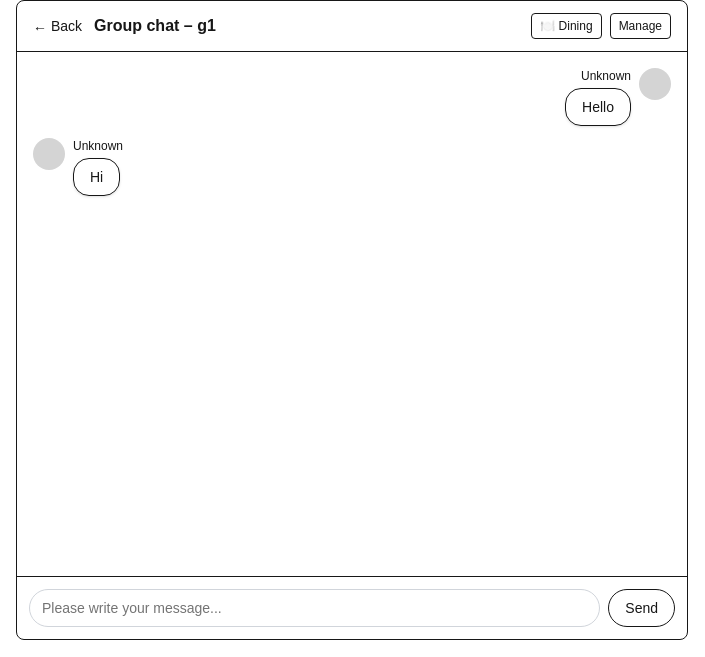
Scenario: manage members toggles, searches, and adds member successfully
Step 1. Click the button "Manage" → (640, 26), box [610, 13, 671, 39]
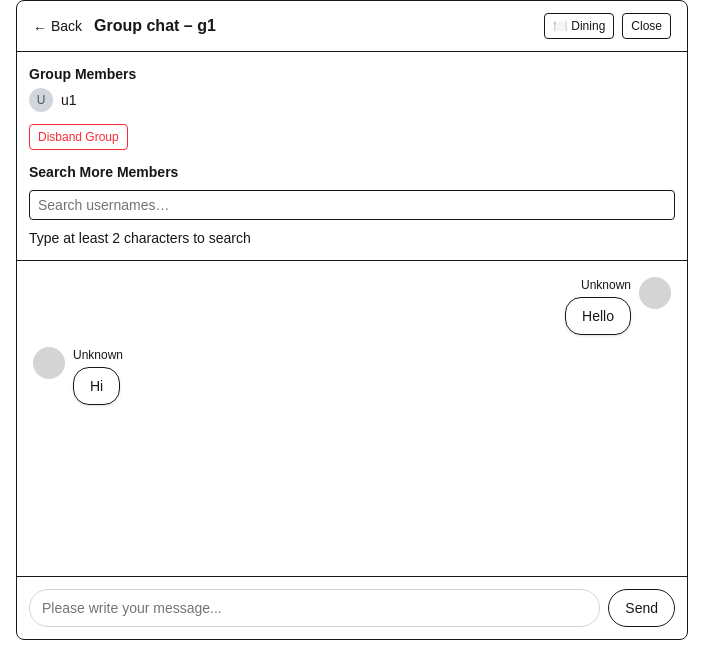
Expected: the button "Close" is shown, [622, 13, 671, 39]
Expected: the text "Type at least 2 characters to search" is shown, [29, 230, 251, 246]
Step 2. Type "us" into the field with placeholder "Search usernames…" → (352, 205), box [29, 190, 675, 220]
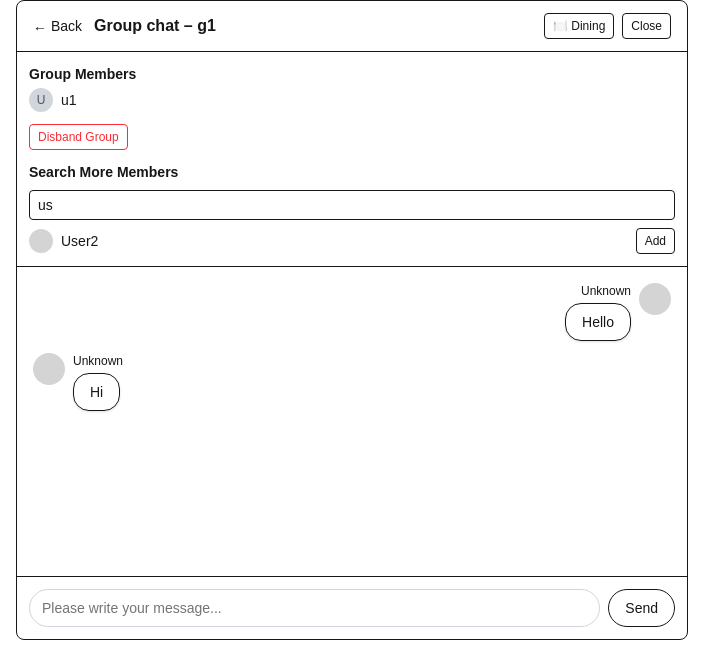
Expected: the text "User2" is shown, [61, 231, 98, 251]
Step 3. Click the button "Add" → (655, 241), box [636, 228, 675, 254]
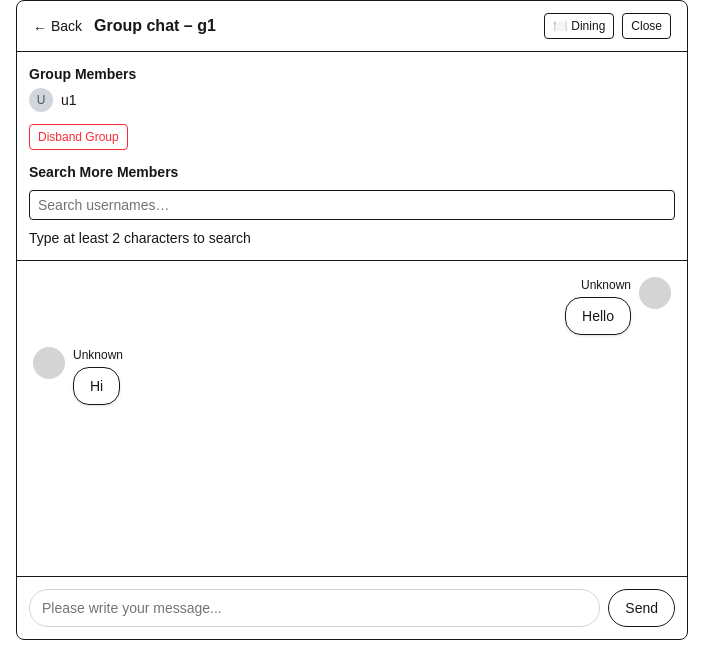
Expected: the text "Type at least 2 characters to search" is shown, [29, 230, 251, 246]
